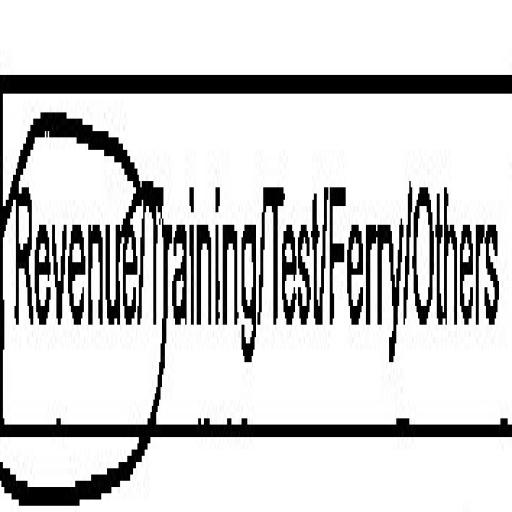check: (0, 8, 142, 512)
